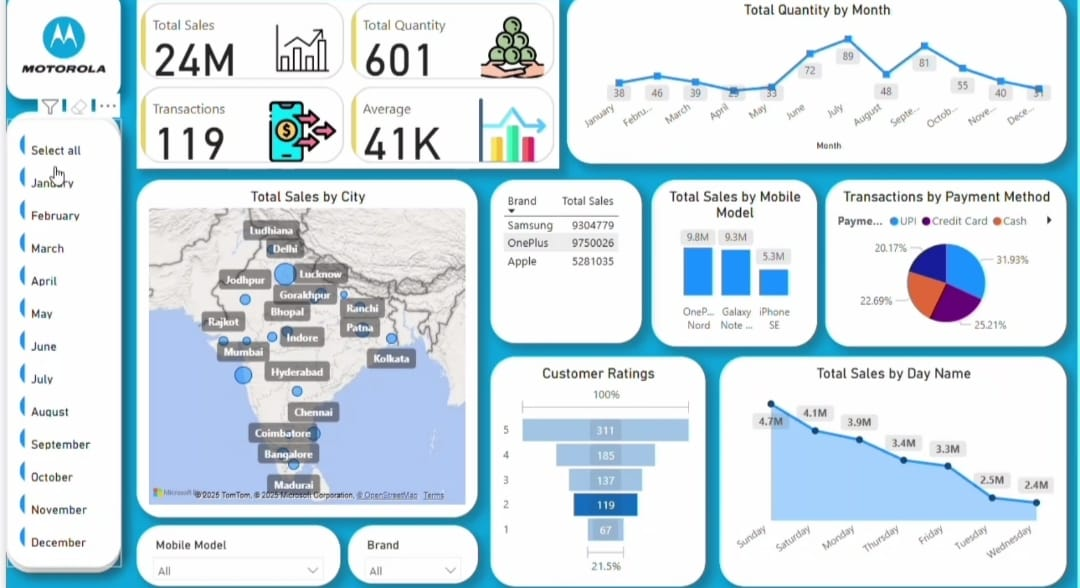

This screenshot's page, from the dashboard's own definition file:
{"tool":"powerbi","page":{"name":"Page 1","canvas":[1280,720],"ordinal":0},"visuals":[{"type":"shape","box":[1.4,0,135.8,129],"z":0},{"type":"image","box":[11,19.2,113.9,90.6],"z":1000},{"type":"shape","box":[0,144.3,137.1,550],"z":2000},{"type":"advancedSlicerVisual","fields":{"Values":["Sales_Data.Date.Variation.Date Hierarchy.Month"]},"box":[1.4,152.3,135.8,535.2],"z":3000},{"type":"cardVisual","fields":{"Data":["Sales_Data.Total Sales","Sales_Data.Total Quantity","Sales_Data.Transactions","Sales_Data.Average"]},"box":[156.4,8.2,505,203.1],"z":4000},{"type":"map","fields":{"Category":["Sales_Data.City"],"Size":["Sales_Data.Total Sales"]},"box":[156.4,225,407.5,403.4],"z":5000},{"type":"lineChart","fields":{"Y":["Sales_Data.Total Quantity"],"Category":["Sales_Data.Date.Variation.Date Hierarchy.Month","Sales_Data.Date.Variation.Date Hierarchy.Day"]},"box":[669.6,2.7,596.9,203.1],"z":6000},{"type":"clusteredColumnChart","fields":{"Category":["Sales_Data.Mobile Model"],"Y":["Sales_Data.Total Sales"]},"box":[771.2,225,197.6,199],"z":7000},{"type":"pieChart","fields":{"Y":["Sales_Data.Transactions"],"Category":["Sales_Data.Payment Method"]},"box":[978.4,225,288.2,199],"z":8000},{"type":"funnel","title":"Customer Ratings","fields":{"Category":["Sales_Data.Customer Ratings"],"Y":["CountNonNull(Sales_Data.Customer Ratings)"]},"box":[579.1,436.4,256.6,274.4],"z":9000},{"type":"areaChart","fields":{"Category":["Sales_Data.Day Name"],"Y":["Sales_Data.Total Sales"]},"box":[852.1,436.4,414.4,274.4],"z":10000},{"type":"tableEx","fields":{"Values":["Sales_Data.Brand","Sales_Data.Total Sales"]},"box":[579.1,225,181.1,194.9],"z":11000},{"type":"slicer","fields":{"Values":["Sales_Data.Mobile Model"]},"box":[156.4,638.1,242.9,72.7],"z":12000},{"type":"slicer","fields":{"Values":["Sales_Data.Brand"]},"box":[408.9,638.1,155.1,70],"z":13000}]}

Visuals, with their boxes in screenshot pixels (x1, y1, x2, y2):
shape: bbox=(7, 0, 120, 96)
image: bbox=(15, 5, 110, 80)
shape: bbox=(6, 109, 120, 568)
advancedSlicerVisual - Sales_Data.Date.Variation.Date Hierarchy.Month: bbox=(7, 116, 120, 563)
cardVisual - Sales_Data.Total Sales x Sales_Data.Total Quantity: bbox=(136, 0, 558, 165)
map - Sales_Data.City x Sales_Data.Total Sales: bbox=(136, 177, 476, 513)
lineChart - Sales_Data.Total Quantity x Sales_Data.Date.Variation.Date Hierarchy.Month: bbox=(565, 0, 1063, 161)
clusteredColumnChart - Sales_Data.Mobile Model x Sales_Data.Total Sales: bbox=(649, 177, 814, 343)
pieChart - Sales_Data.Transactions x Sales_Data.Payment Method: bbox=(822, 177, 1063, 343)
"Customer Ratings" funnel: bbox=(489, 353, 703, 582)
areaChart - Sales_Data.Day Name x Sales_Data.Total Sales: bbox=(717, 353, 1063, 582)
tableEx - Sales_Data.Brand x Sales_Data.Total Sales: bbox=(489, 177, 640, 339)
slicer - Sales_Data.Mobile Model: bbox=(136, 521, 339, 582)
slicer - Sales_Data.Brand: bbox=(347, 521, 476, 580)
